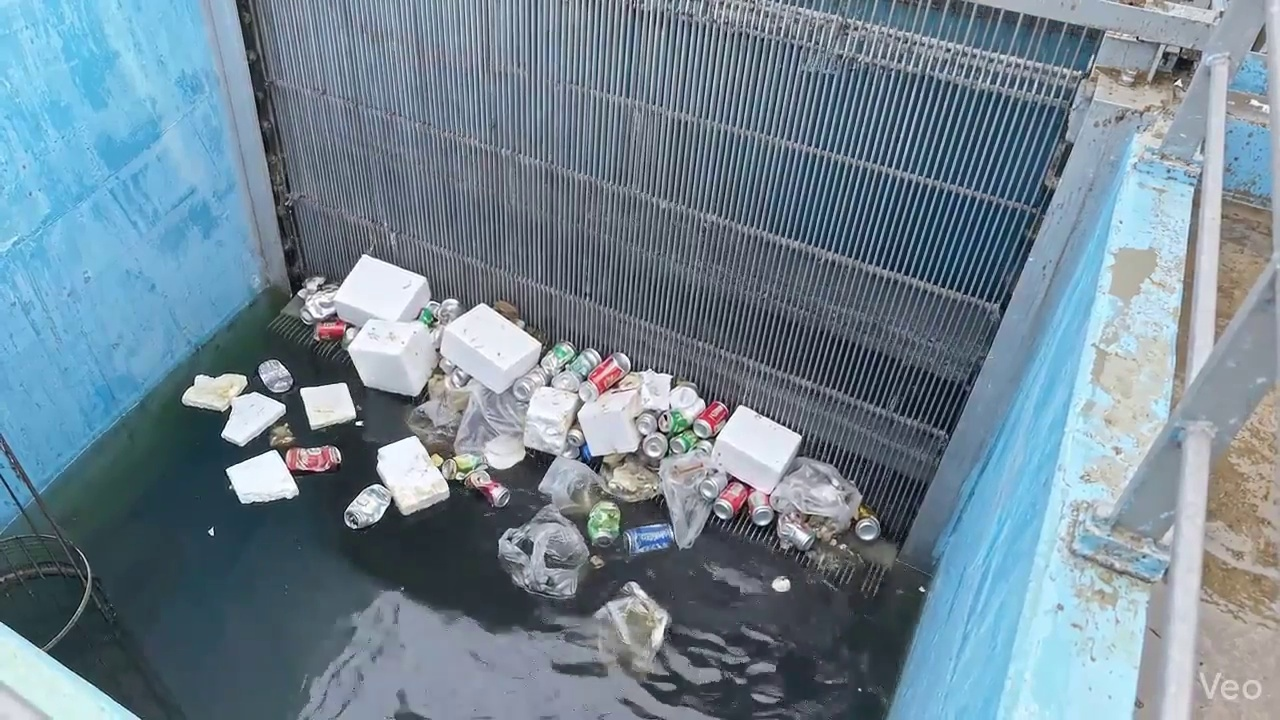debris: (440, 304, 540, 392), (498, 506, 588, 597), (713, 406, 801, 492), (334, 255, 430, 326), (594, 582, 669, 672), (348, 319, 436, 395), (772, 458, 861, 532), (659, 454, 719, 548), (376, 437, 449, 514), (454, 386, 526, 456), (406, 374, 469, 454), (578, 390, 642, 454), (523, 387, 580, 454), (226, 450, 298, 503), (538, 456, 599, 514), (221, 392, 285, 446), (598, 455, 660, 501), (299, 383, 355, 429), (578, 352, 629, 402), (181, 373, 247, 411), (551, 348, 601, 392), (344, 484, 391, 529), (463, 469, 509, 507), (623, 523, 675, 555), (299, 284, 338, 324), (712, 480, 750, 520), (587, 501, 620, 546), (284, 446, 340, 472), (484, 434, 525, 469), (670, 384, 706, 423), (776, 516, 816, 551), (511, 367, 551, 401), (692, 401, 728, 438), (539, 340, 576, 376), (641, 370, 671, 412), (438, 453, 483, 479), (747, 489, 775, 526), (854, 504, 880, 541), (313, 319, 353, 341), (698, 472, 728, 501), (658, 409, 692, 434), (297, 275, 328, 299), (641, 433, 668, 460), (435, 298, 462, 325), (269, 423, 296, 449), (492, 300, 521, 324), (669, 430, 698, 454), (635, 410, 658, 435), (612, 372, 641, 391), (417, 301, 438, 327), (447, 368, 471, 389), (566, 424, 585, 447), (341, 325, 359, 348), (438, 356, 455, 374), (771, 576, 790, 592), (694, 440, 713, 454), (589, 555, 605, 568), (430, 453, 444, 467), (207, 526, 214, 536), (353, 420, 364, 426), (918, 586, 925, 592)
